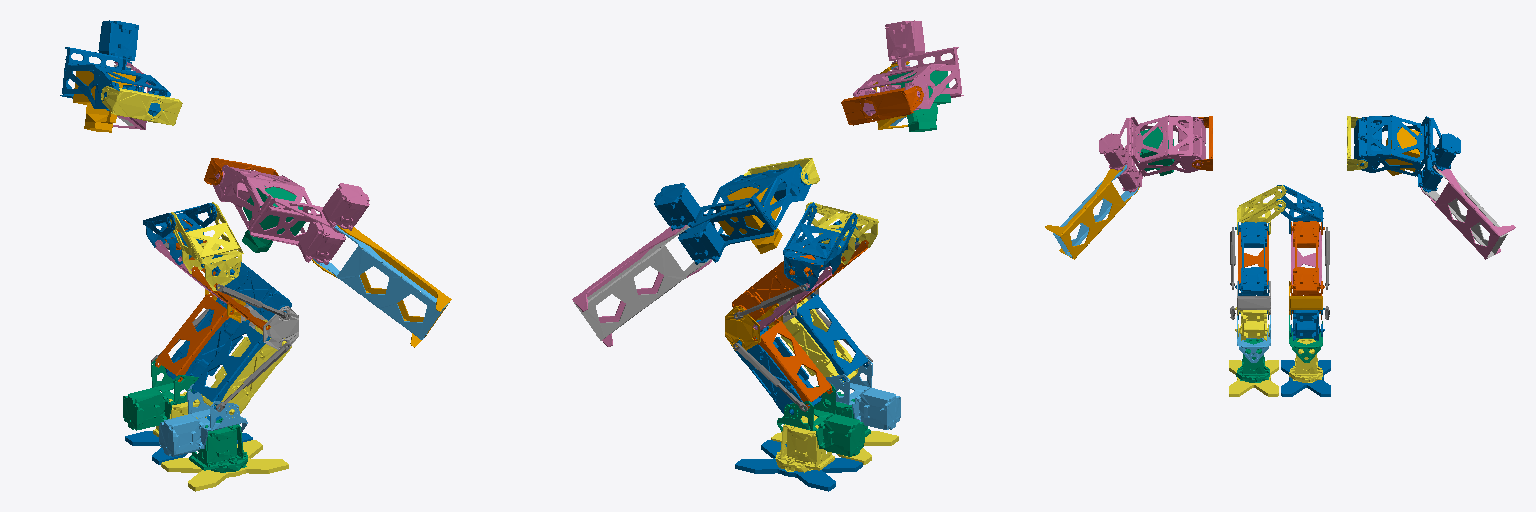
--- Render facts (derived) ---
3 views of the same robot in one strip: view 1: azimuth 30°, elevation 25°; view 2: azimuth 150°, elevation 25°; view 3: azimuth 270°, elevation 25° (orthographic).
Model ginko_xacro with 51 links and 50 joints (41 revolute, 4 continuous, 4 prismatic, 1 fixed), rooted at root_link, posed all joints at 0.
Visible links, largest first — view 1: arm_r_link1, arm_l_link1, arm_r_link3, leg_r_link0, leg_r_link6, leg_l_link6, leg_l_link5, leg_r_link5, leg_r_link8, arm_l_link0, leg_r_link7, leg_r_link4 (+10 smaller); view 2: arm_l_link1, arm_r_link1, arm_l_link3, leg_l_link0, leg_l_link6, leg_r_link6, leg_l_link5, leg_r_link5, leg_l_link8, arm_r_link0, leg_l_link7, leg_l_link4 (+10 smaller); view 3: arm_l_link1, arm_r_link1, arm_r_link2, arm_l_link2, leg_l_link1, leg_r_link1, leg_r_link0, leg_l_link0, leg_l_link8, leg_r_link8, arm_l_link3, arm_r_link3 (+10 smaller).
Boxes of the visible links, <box> form: arm_r_link1: <box>212,165,369,264</box>; arm_l_link1: <box>60,20,170,119</box>; arm_r_link3: <box>313,225,448,339</box>; leg_r_link0: <box>170,202,243,290</box>; leg_r_link6: <box>159,384,247,456</box>; leg_l_link6: <box>123,358,198,430</box>; leg_l_link5: <box>155,293,233,381</box>; leg_r_link5: <box>192,320,270,408</box>; leg_r_link8: <box>161,440,288,491</box>; arm_l_link0: <box>101,86,182,125</box>; leg_r_link7: <box>189,418,247,472</box>; leg_r_link4: <box>201,320,291,417</box>; arm_l_link1: <box>654,164,811,264</box>; arm_r_link1: <box>853,20,963,115</box>; arm_l_link3: <box>574,225,710,340</box>; leg_l_link0: <box>783,202,857,290</box>; leg_l_link6: <box>777,384,864,456</box>; leg_r_link6: <box>826,357,900,429</box>; leg_l_link5: <box>753,319,832,408</box>; leg_r_link5: <box>790,293,868,381</box>; leg_l_link8: <box>735,440,862,491</box>; arm_r_link0: <box>841,86,923,125</box>; leg_l_link7: <box>775,418,834,472</box>; leg_l_link4: <box>731,320,822,414</box>; arm_l_link1: <box>1354,115,1460,192</box>; arm_r_link1: <box>1099,115,1205,192</box>; arm_r_link2: <box>1045,166,1139,259</box>; arm_l_link2: <box>1421,166,1515,259</box>; leg_l_link1: <box>1291,221,1324,294</box>; leg_r_link1: <box>1235,222,1268,294</box>; leg_r_link0: <box>1237,185,1286,234</box>; leg_l_link0: <box>1276,185,1323,233</box>; leg_l_link8: <box>1281,360,1330,396</box>; leg_r_link8: <box>1229,360,1278,396</box>; arm_l_link3: <box>1422,165,1507,257</box>; arm_r_link3: <box>1053,165,1138,257</box>.
Size in the robot's own frame: 0.2079 by 0.7542 by 0.448 metres.
36 mesh visuals loaded from 27 distinct referenced files (2 binary STL, 23 OBJ); not drawn: 2 (reference not matched to a file when rendering).

The robot description file, URDF, robot "ginko_xacro":
<?xml version="1.0" ?>
<!-- =================================================================================== -->
<!-- |    This document was autogenerated by xacro from ./ginko.xacro                  | -->
<!-- |    EDITING THIS FILE BY HAND IS NOT RECOMMENDED                                 | -->
<!-- =================================================================================== -->
<robot name="ginko_xacro" xmlns:xacro="http://www.ros.org/wiki/xacro">
  <link name="root_link"/>
  <joint name="root_joint" type="fixed">
    <parent link="root_link"/>
    <child link="body_link0"/>
    <origin rpy="0 0 0" xyz="0 0 0"/>
  </joint>
  <!-- chest -->
  <link name="body_link0">
    <collision>
      <origin rpy="0 0 0" xyz="0 0 0"/>
      <geometry>
        <mesh filename="package://ginko_description/meshes/stl/link00_chest.stl"/>
      </geometry>
    </collision>
    <visual>
      <origin rpy="0 0 0" xyz="0 0 0"/>
      <geometry>
        <mesh filename="package://ginko_description/meshes/obj/link00_chest.obj"/>
      </geometry>
    </visual>
    <inertial>
      <mass value="1.41502697"/>
      <origin rpy="0 0 0" xyz="0.00008301 0.00000908 0.03819562"/>
      <inertia ixx="0.00248548" ixy="-0.00000074" ixz="0.000003761" iyy="0.00121388" iyz="-0.00000042" izz="0.00287756"/>
    </inertial>
  </link>
  <!-- Joint1 -->
  <joint name="body_joint1" type="revolute">
    <parent link="body_link0"/>
    <child link="body_link1"/>
    <origin rpy="0 0 0" xyz="0.0 0 0"/>
    <axis xyz="0 0 1"/>
    <limit effort="1000.0" lower="-2.6" upper="2.6" velocity="10.0"/>
    <dynamics damping="0.1" friction="0.1"/>
  </joint>
  <!-- waist -->
  <link name="body_link1">
    <collision>
      <origin rpy="0 0 0" xyz="0 0 0"/>
      <geometry>
        <mesh filename="package://ginko_description/meshes/stl/link01_waist.stl"/>
      </geometry>
    </collision>
    <visual>
      <origin rpy="0 0 0" xyz="0 0 0"/>
      <geometry>
        <mesh filename="package://ginko_description/meshes/obj/link01_waist.obj"/>
      </geometry>
    </visual>
    <inertial>
      <mass value="0.33312665"/>
      <origin rpy="0 0 0" xyz="-0.01135452 -0.00000134 -0.02720222"/>
      <inertia ixx="0.00015328" ixy="0.00000003" ixz="0.00001078" iyy="0.00073745" iyz="0.00000000" izz="0.00073107"/>
    </inertial>
  </link>
  <gazebo reference="body_link0">
    <kp>1000000.0</kp>
    <kd>100.0</kd>
    <mu1>0.1</mu1>
    <maxVel>10.0</maxVel>
    <minDepth>0.0001</minDepth>
    <maxContacts>6</maxContacts>
    <selfCollide>false</selfCollide>
    <dampingFactor>0.00</dampingFactor>
  </gazebo>
  <transmission name="body_joint1_trans">
    <type>transmission_interface/SimpleTransmission</type>
    <joint name="body_joint1">
      <hardwareInterface>PositionDutyPidMotorInterface</hardwareInterface>
    </joint>
    <actuator name="body_joint1_motor">
      <hardwareInterface>PositionDutyPidMotorInterface</hardwareInterface>
      <mechanicalReduction>1</mechanicalReduction>
    </actuator>
  </transmission>
  <gazebo reference="body_link1">
    <kp>1000000.0</kp>
    <kd>100.0</kd>
    <mu1>0.1</mu1>
    <maxVel>10.0</maxVel>
    <minDepth>0.0001</minDepth>
    <maxContacts>6</maxContacts>
    <selfCollide>false</selfCollide>
    <dampingFactor>0.00</dampingFactor>
  </gazebo>
  <!-- Link conencts from body. Femoral first. -->
  <joint name="leg_r_joint0" type="revolute">
    <parent link="body_link1"/>
    <child link="leg_r_link0"/>
    <origin rpy="0 0 0" xyz="0.0205 0.0 -0.0409"/>
    <axis xyz="1 0 0"/>
    <limit effort="1000.0" lower="-1.0" upper="0.8" velocity="10.0"/>
    <dynamics damping="0.0" friction="0.3"/>
  </joint>
  <link name="leg_r_link0">
    <collision>
      <origin rpy="0 0 0" xyz="0 0 0"/>
      <geometry>
        <mesh filename="package://ginko_description/meshes/stl/link02_r_femoral.stl"/>
      </geometry>
    </collision>
    <visual>
      <origin rpy="0 0 0" xyz="0 0 0"/>
      <geometry>
        <mesh filename="package://ginko_description/meshes/obj/link02_r_femoral.obj"/>
      </geometry>
    </visual>
    <inertial>
      <mass value="0.03431457"/>
      <origin rpy="0 0 0" xyz="-0.02905818 -0.03723481 -0.02604954"/>
      <inertia ixx="0.00002441" ixy="0.00000001" ixz="0.00000021" iyy="0.00002285" iyz="0.00000391" izz="0.00002980"/>
    </inertial>
  </link>
  <!-- parallel link (upper-1st) -->
  <joint name="leg_r_joint1" type="revolute">
    <parent link="leg_r_link0"/>
    <child link="leg_r_link1"/>
    <origin rpy="0 0.7854 0" xyz="-0.0176 -0.0175 -0.0481"/>
    <axis xyz="0 1 0"/>
    <limit effort="1000.0" lower="-0.7854" upper="1.3" velocity="10.0"/>
    <dynamics damping="0.0" friction="0.3"/>
  </joint>
  <link name="leg_r_link1">
    <collision>
      <origin rpy="0 0 0" xyz="0 0 0"/>
      <geometry>
        <mesh filename="package://ginko_description/meshes/stl/link03_r_leg01.stl"/>
      </geometry>
    </collision>
    <visual>
      <origin rpy="0 0 0" xyz="0 0 0"/>
      <geometry>
        <mesh filename="package://ginko_description/meshes/obj/link03_r_leg01.obj"/>
      </geometry>
    </visual>
    <inertial>
      <mass value="0.15115113"/>
      <origin rpy="0 0 0" xyz="0.05000000 -0.02587267 0.00000000"/>
      <inertia ixx="0.00003721" ixy="0.00000000" ixz="0.00000000" iyy="0.00026035" iyz="0.00000000" izz="0.00028077"/>
    </inertial>
  </link>
  <joint name="leg_r_joint3" type="revolute">
    <parent link="leg_r_link1"/>
    <child link="leg_r_link3"/>
    <origin rpy="0 -0.7854 0" xyz="0.1 0.0 0.0"/>
    <axis xyz="0 -1 0"/>
    <limit effort="1000.0" lower="-0.7854" upper="1.3" velocity="10.0"/>
    <dynamics damping="0.0" friction="0.3"/>
  </joint>
  <!-- parallel link (upper-2nd) -->
  <joint name="leg_r_joint2" type="revolute">
    <parent link="leg_r_link0"/>
    <child link="leg_r_link2"/>
    <origin rpy="0 0.7854 0" xyz="-0.0389 -0.0175 -0.06015"/>
    <axis xyz="0 1 0"/>
    <limit effort="1000.0" lower="-0.7854" upper="1.3" velocity="10.0"/>
    <dynamics damping="0.0" friction="0.0"/>
  </joint>
  <link name="leg_r_link2">
    <collision>
      <origin rpy="0 0 0" xyz="0 0 0"/>
      <geometry>
        <mesh filename="package://ginko_description/meshes/stl/link04_r_leg02.stl"/>
      </geometry>
    </collision>
    <visual>
      <origin rpy="0 0 0" xyz="0 0 0"/>
      <geometry>
        <mesh filename="package://ginko_description/meshes/obj/link04_r_leg02.obj"/>
      </geometry>
    </visual>
    <inertial>
      <mass value="0.01646643"/>
      <origin rpy="0 0 0" xyz="0.05000000 -0.02495100 -0.00491150"/>
      <inertia ixx="0.00000640" ixy="0.00000000" ixz="0.00000000" iyy="0.00001642" iyz="0.00000000" izz="0.00002264"/>
    </inertial>
  </link>
  <joint name="close_leg_r_joint0" type="revolute">
    <parent link="leg_r_link2"/>
    <child link="dummy0_leg_r_link3"/>
    <origin rpy="0 -0.7854 0" xyz="0.1 0.0 0.0"/>
    <axis xyz="0 -1 0"/>
    <limit effort="1000.0" lower="-0.7854" upper="1.3" velocity="10.0"/>
    <dynamics damping="0.0" friction="0.0"/>
  </joint>
  <link name="dummy0_leg_r_link3">
    <inertial>
      <mass value="0.00001"/>
      <origin rpy="0 0 0" xyz="-0.021 0 -0.012"/>
      <inertia ixx="0.00000001" ixy="0.00000000" ixz="0.00000000" iyy="0.00000001" iyz="0.00000000" izz="0.00000001"/>
    </inertial>
  </link>
  <!-- knee -->
  <link name="leg_r_link3">
    <collision>
      <origin rpy="0 0 0" xyz="0 0 0"/>
      <geometry>
        <mesh filename="package://ginko_description/meshes/stl/link05_r_knee.stl"/>
      </geometry>
    </collision>
    <visual>
      <origin rpy="0 0 0" xyz="0 0 0"/>
      <geometry>
        <mesh filename="package://ginko_description/meshes/obj/link05_r_knee.obj"/>
      </geometry>
    </visual>
    <inertial>
      <mass value="0.01781176"/>
      <origin rpy="0 0 0" xyz="0.00393357 -0.02364163 -0.01930000"/>
      <inertia ixx="0.00001301" ixy="-0.00000008" ixz="0.00000000" iyy="0.00000700" iyz="0.00000000" izz="0.00001388"/>
    </inertial>
  </link>
  <joint name="leg_r_spring0_joint0" type="revolute">
    <parent link="leg_r_link0"/>
    <child link="leg_r_spring0_link0"/>
    <origin rpy="0 0.56756754 0" xyz="-0.0389 -0.0755 -0.06015"/>
    <axis xyz="0 -1 0"/>
    <dynamics damping="0.0" friction="0.0"/>
    <limit effort="0.0" lower="-3.141593" upper="3.141593" velocity="10.0"/>
  </joint>
  <link name="leg_r_spring0_link0">
    <collision>
      <origin rpy="0 0 0" xyz="0 0 0"/>
      <geometry>
        <mesh filename="package://ginko_description/meshes/stl/spring1.stl"/>
      </geometry>
    </collision>
    <visual>
      <origin rpy="0 0 0" xyz="0 0 0"/>
      <geometry>
        <mesh filename="package://ginko_description/meshes/stl/spring1.stl"/>
      </geometry>
      <material name="spring">
        <color rgba="0.5 0.5 0.5 1.0"/>
      </material>
    </visual>
    <inertial>
      <mass value="0.0143865"/>
      <origin rpy="0 0 0" xyz="0.03091683 0.0 0.0"/>
      <inertia ixx="0.0000001" ixy="0.00000000" ixz="0.00000000" iyy="0.0000060" iyz="0.00000000" izz="0.0000060"/>
    </inertial>
  </link>
  <joint name="spring0_leg_r_joint" type="prismatic">
    <parent link="leg_r_spring0_link0"/>
    <child link="leg_r_spring0_link1"/>
    <origin rpy="0 3.141593 0" xyz="0.10911938 0.0 0.0"/>
    <axis xyz="1 0 0"/>
    <limit effort="1000.0" lower="-0.03" upper="0.06" velocity="10.0"/>
    <dynamics damping="0.0" friction="0.0"/>
  </joint>
  <link name="leg_r_spring0_link1">
    <collision>
      <origin rpy="0 0 0" xyz="0 0 0"/>
      <geometry>
        <mesh filename="package://ginko_description/meshes/stl/spring2.stl"/>
      </geometry>
    </collision>
    <visual>
      <origin rpy="0 0 0" xyz="0 0 0"/>
      <geometry>
        <mesh filename="package://ginko_description/meshes/stl/spring2.stl"/>
      </geometry>
      <material name="spring">
        <color rgba="0.5 0.5 0.5 1.0"/>
      </material>
    </visual>
    <inertial>
      <mass value="0.0143865"/>
      <origin rpy="0 0 0" xyz="0.03091683 0.0 0.0"/>
      <inertia ixx="0.0000001" ixy="0.00000000" ixz="0.00000000" iyy="0.0000060" iyz="0.00000000" izz="0.0000060"/>
    </inertial>
  </link>
  <joint name="close_leg_r_spring0_joint1" type="revolute">
    <parent link="leg_r_spring0_link1"/>
    <child link="dummy1_leg_r_link3"/>
    <origin rpy="0 0 0" xyz="0 0 0"/>
    <axis xyz="0 -1 0"/>
    <limit effort="0.0" lower="-3.141593" upper="3.141593" velocity="10.0"/>
    <dynamics damping="0.0" friction="0.0"/>
  </joint>
  <link name="dummy1_leg_r_link3">
    <inertial>
      <mass value="0.00001"/>
      <origin rpy="0 0 0" xyz="0 -0.058 0"/>
      <inertia ixx="0.00000001" ixy="0.00000000" ixz="0.00000000" iyy="0.00000001" iyz="0.00000000" izz="0.00000001"/>
    </inertial>
  </link>
  <!-- parallel link (lower-1st) -->
  <joint name="leg_r_joint4" type="revolute">
    <parent link="leg_r_link3"/>
    <child link="leg_r_link4"/>
    <origin rpy="0 2.3562 0" xyz="0 0 -0.0386"/>
    <axis xyz="0 1 0"/>
    <limit effort="1000.0" lower="-1.3" upper="0.7854" velocity="10.0"/>
    <dynamics damping="0.0" friction="0.3"/>
  </joint>
  <link name="leg_r_link4">
    <collision>
      <origin rpy="0 0 0" xyz="0 0 0"/>
      <geometry>
        <mesh filename="package://ginko_description/meshes/stl/link03_r_leg01.stl"/>
      </geometry>
    </collision>
    <visual>
      <origin rpy="0 0 0" xyz="0 0 0"/>
      <geometry>
        <mesh filename="package://ginko_description/meshes/obj/link03_r_leg01.obj"/>
      </geometry>
    </visual>
    <inertial>
      <mass value="0.15115113"/>
      <origin rpy="0 0 0" xyz="0.05000000 -0.02587267 0.00000000"/>
      <inertia ixx="0.00003721" ixy="0.00000000" ixz="0.00000000" iyy="0.00026035" iyz="0.00000000" izz="0.00028077"/>
    </inertial>
  </link>
  <joint name="leg_r_joint6" type="revolute">
    <parent link="leg_r_link4"/>
    <child link="leg_r_link6"/>
    <origin rpy="0 -2.3562 0" xyz="0.1 0.0 0.0"/>
    <axis xyz="0 -1 0"/>
    <limit effort="1000.0" lower="-1.3" upper="0.7854" velocity="10.0"/>
    <dynamics damping="0.0" friction="0.3"/>
  </joint>
  <!-- parallel link (lower-2nd) -->
  <joint name="leg_r_joint5" type="revolute">
    <parent link="leg_r_link3"/>
    <child link="leg_r_link5"/>
    <origin rpy="0 2.3562 0" xyz="-0.0213 0 -0.02655"/>
    <axis xyz="0 1 0"/>
    <limit effort="0.0" lower="-1.3" upper="0.7854" velocity="10.0"/>
    <dynamics damping="0.0" friction="0.0"/>
  </joint>
  <link name="leg_r_link5">
    <collision>
      <origin rpy="0 0 0" xyz="0 0 0"/>
      <geometry>
        <mesh filename="package://ginko_description/meshes/stl/link04_r_leg02.stl"/>
      </geometry>
    </collision>
    <visual>
      <origin rpy="0 0 0" xyz="0 0 0"/>
      <geometry>
        <mesh filename="package://ginko_description/meshes/obj/link04_r_leg02.obj"/>
      </geometry>
    </visual>
    <inertial>
      <mass value="0.01646643"/>
      <origin rpy="0 0 0" xyz="0.05000000 -0.02495100 -0.00491150"/>
      <inertia ixx="0.00000640" ixy="0.00000000" ixz="0.00000000" iyy="0.00001642" iyz="0.00000000" izz="0.00002264"/>
    </inertial>
  </link>
  <joint name="close_leg_r_joint1" type="revolute">
    <parent link="leg_r_link5"/>
    <child link="dummy2_leg_r_link6"/>
    <origin rpy="0 -2.3562 0" xyz="0.1 0.0 0.0"/>
    <axis xyz="0 -1 0"/>
    <limit effort="0.0" lower="-1.3" upper="0.7854" velocity="10.0"/>
    <dynamics damping="0.0" friction="0.0"/>
  </joint>
  <link name="dummy2_leg_r_link6">
    <inertial>
      <mass value="0.00001"/>
      <origin rpy="0 0 0" xyz="-0.021 0 0.012"/>
      <inertia ixx="0.00000001" ixy="0.00000000" ixz="0.00000000" iyy="0.00000001" iyz="0.00000000" izz="0.00000001"/>
    </inertial>
  </link>
  <joint name="leg_r_spring1_joint0" type="continuous">
    <parent link="leg_r_link4"/>
    <child link="leg_r_spring1_link0"/>
    <origin rpy="0 0.217830624 0" xyz="0 -0.058 0"/>
    <axis xyz="0 -1 0"/>
    <limit effort="0.0" lower="-3.141593" upper="3.141593" velocity="10.0"/>
    <dynamics damping="0.01" friction="0.0"/>
  </joint>
  <link name="leg_r_spring1_link0">
    <collision>
      <origin rpy="0 0 0" xyz="0 0 0"/>
      <geometry>
        <mesh filename="package://ginko_description/meshes/stl/spring1.stl"/>
      </geometry>
    </collision>
    <visual>
      <origin rpy="0 0 0" xyz="0 0 0"/>
      <geometry>
        <mesh filename="package://ginko_description/meshes/stl/spring1.stl"/>
      </geometry>
      <material name="spring">
        <color rgba="0.5 0.5 0.5 1.0"/>
      </material>
    </visual>
    <inertial>
      <mass value="0.0143865"/>
      <origin rpy="0 0 0" xyz="0.03091683 0.0 0.0"/>
      <inertia ixx="0.0000001" ixy="0.00000000" ixz="0.00000000" iyy="0.0000060" iyz="0.00000000" izz="0.0000060"/>
    </inertial>
  </link>
  <joint name="spring1_leg_r_joint" type="prismatic">
    <parent link="leg_r_spring1_link0"/>
    <child link="leg_r_spring1_link1"/>
    <origin rpy="0 3.141593 0" xyz="0.10911938 0.0 0.0"/>
    <axis xyz="1 0 0"/>
    <limit effort="1000.0" lower="-0.03" upper="0.06" velocity="10.0"/>
    <dynamics damping="0.01" friction="0.0"/>
  </joint>
  <link name="leg_r_spring1_link1">
    <collision>
      <origin rpy="0 0 0" xyz="0 0 0"/>
      <geometry>
        <mesh filename="package://ginko_description/meshes/stl/spring2.stl"/>
      </geometry>
    </collision>
    <visual>
      <origin rpy="0 0 0" xyz="0 0 0"/>
      <geometry>
        <mesh filename="package://ginko_description/meshes/stl/spring2.stl"/>
      </geometry>
      <material name="spring">
        <color rgba="0.5 0.5 0.5 1.0"/>
      </material>
    </visual>
    <inertial>
      <mass value="0.0143865"/>
      <origin rpy="0 0 0" xyz="0.03091683 0.0 0.0"/>
      <inertia ixx="0.0000001" ixy="0.00000000" ixz="0.00000000" iyy="0.0000060" iyz="0.00000000" izz="0.0000060"/>
    </inertial>
  </link>
  <joint name="close_leg_r_spring1_joint1" type="continuous">
    <parent link="leg_r_spring1_link1"/>
    <child link="dummy3_leg_r_link6"/>
    <origin rpy="0 -2.574025114 0" xyz="0 0 0"/>
    <axis xyz="0 -1 0"/>
    <limit effort="0.0" lower="-3.141593" upper="3.141593" velocity="10.0"/>
    <dynamics damping="0.01" friction="0.0"/>
  </joint>
  <link name="dummy3_leg_r_link6">
    <inertial>
      <mass value="0.00001"/>
      <origin rpy="0 0 0" xyz="-0.021 -0.058 0.012"/>
      <inertia ixx="0.00000001" ixy="0.00000000" ixz="0.00000000" iyy="0.00000001" iyz="0.00000000" izz="0.00000001"/>
    </inertial>
  </link>
  <!-- toe -->
  <link name="leg_r_link6">
    <collision>
      <origin rpy="0 0 0" xyz="0 0 0"/>
      <geometry>
        <mesh filename="package://ginko_description/meshes/stl/link06_r_toe01.stl"/>
      </geometry>
    </collision>
    <visual>
      <origin rpy="0 0 0" xyz="0 0 0"/>
      <geometry>
        <mesh filename="package://ginko_description/meshes/obj/link06_r_toe01.obj"/>
      </geometry>
    </visual>
    <inertial>
      <mass value="0.08799204"/>
      <origin rpy="0 0 0" xyz="-0.04166125 -0.02463880 -0.02586249"/>
      <inertia ixx="0.00002815" ixy="0.00000041" ixz="0.00000980" iyy="0.00006846" iyz="0.00000026" izz="0.00006529"/>
    </inertial>
  </link>
  <joint name="leg_r_joint7" type="revolute">
    <parent link="leg_r_link6"/>
    <child link="leg_r_link7"/>
    <origin rpy="0 0 0" xyz="-0.028 -0.02475 -0.0391"/>
    <axis xyz="-1 0 0"/>
    <limit effort="1000.0" lower="-1.6" upper="1.6" velocity="10.0"/>
    <dynamics damping="0.0" friction="0.3"/>
  </joint>
  <link name="leg_r_link7">
    <collision>
      <origin rpy="0 0 0" xyz="0 0 0"/>
      <geometry>
        <mesh filename="package://ginko_description/meshes/stl/link07_r_toe02.stl"/>
      </geometry>
    </collision>
    <visual>
      <origin rpy="0 0 0" xyz="0 0 0"/>
      <geometry>
        <mesh filename="package://ginko_description/meshes/obj/link07_r_toe02.obj"/>
      </geometry>
    </visual>
    <inertial>
      <mass value="0.10920041"/>
      <origin rpy="0 0 0" xyz="0.02658756 -0.00000053 -0.01782468"/>
      <inertia ixx="0.00003853" ixy="0.00000000" ixz="-0.00000479" iyy="0.00005192" iyz="0.00000000" izz="0.00003521"/>
    </inertial>
  </link>
  <joint name="leg_r_joint8" type="revolute">
    <parent link="leg_r_link7"/>
    <child link="leg_r_link8"/>
    <origin rpy="0 0 0" xyz="0.0342 0 -0.04"/>
    <axis xyz="0 0 1"/>
    <limit effort="1000.0" lower="-2.6" upper="2.6" velocity="10.0"/>
    <dynamics damping="0.0" friction="0.3"/>
  </joint>
  <link name="leg_r_link8">
    <collision>
      <origin rpy="0 0 0" xyz="0 0 -0.003"/>
      <geometry>
        <box size="0.128 0.08 0.006"/>
      </geometry>
    </collision>
    <visual>
      <origin rpy="0 0 0" xyz="0 0 0"/>
      <geometry>
        <mesh filename="package://ginko_description/meshes/obj/link08_r_toe03.obj"/>
      </geometry>
    </visual>
    <inertial>
      <mass value="0.05363111"/>
      <origin rpy="0 0 0" xyz="0.00000000 0.00000000 -0.00269342"/>
      <inertia ixx="0.00002877" ixy="0.00000000" ixz="0.00000000" iyy="0.00007083" iyz="-0.00000000" izz="0.00009934"/>
    </inertial>
  </link>
  <gazebo reference="leg_r_link0">
    <kp>1000000.0</kp>
    <kd>100.0</kd>
    <mu1>0.2</mu1>
    <maxVel>10.0</maxVel>
    <minDepth>0.0001</minDepth>
    <maxContacts>6</maxContacts>
    <selfCollide>false</selfCollide>
    <dampingFactor>0.00</dampingFactor>
  </gazebo>
  <gazebo reference="leg_r_link1">
    <kp>1000000.0</kp>
    <kd>100.0</kd>
    <mu1>0.2</mu1>
    <maxVel>10.0</maxVel>
    <minDepth>0.0001</minDepth>
    <maxContacts>6</maxContacts>
    <selfCollide>false</selfCollide>
    <dampingFactor>0.00</dampingFactor>
  </gazebo>
  <gazebo reference="leg_r_link3">
    <kp>1000000.0</kp>
    <kd>100.0</kd>
    <mu1>0.2</mu1>
    <maxVel>10.0</maxVel>
    <minDepth>0.0001</minDepth>
    <maxContacts>6</maxContacts>
    <selfCollide>false</selfCollide>
    <dampingFactor>0.00</dampingFactor>
  </gazebo>
  <gazebo reference="leg_r_link4">
    <kp>1000000.0</kp>
    <kd>100.0</kd>
    <mu1>0.2</mu1>
    <maxVel>10.0</maxVel>
    <minDepth>0.0001</minDepth>
    <maxContacts>6</maxContacts>
    <selfCollide>false</selfCollide>
    <dampingFactor>0.00</dampingFactor>
  </gazebo>
  <gazebo reference="leg_r_link6">
    <kp>1000000.0</kp>
    <kd>100.0</kd>
    <mu1>0.2</mu1>
    <maxVel>10.0</maxVel>
    <minDepth>0.0001</minDepth>
    <maxContacts>6</maxContacts>
    <selfCollide>false</selfCollide>
    <dampingFactor>0.00</dampingFactor>
  </gazebo>
  <gazebo reference="leg_r_link7">
    <kp>1000000.0</kp>
    <kd>100.0</kd>
    <mu1>0.2</mu1>
    <maxVel>10.0</maxVel>
    <minDepth>0.0001</minDepth>
    <maxContacts>6</maxContacts>
    <selfCollide>false</selfCollide>
    <dampingFactor>0.00</dampingFactor>
  </gazebo>
  <!-- <xacro:default_link_collision link_name="leg_r_link8" friction="1.0"/> -->
  <gazebo reference="leg_r_link8">
    <kp>2000000.0</kp>
    <kd>200.0</kd>
    <mu1>10.0</mu1>
    <maxVel>1.0</maxVel>
    <minDepth>0.0001</minDepth>
    <maxContacts>20</maxContacts>
    <selfCollide>true</selfCollide>
    <dampingFactor>0.0</dampingFactor>
  </gazebo>
  <transmission name="leg_r_joint0_trans">
    <type>transmission_interface/SimpleTransmission</type>
    <joint name="leg_r_joint0">
      <hardwareInterface>PositionDutyPidMotorInterface</hardwareInterface>
    </joint>
    <actuator name="leg_r_joint0_motor">
      <hardwareInterface>PositionDutyPidMotorInterface</hardwareInterface>
      <mechanicalReduction>1</mechanicalReduction>
    </actuator>
  </transmission>
  <transmission name="leg_r_joint1_trans">
    <type>transmission_interface/SimpleTransmission</type>
    <joint name="leg_r_joint1">
      <hardwareInterface>PositionDutyPidMotorInterface</hardwareInterface>
    </joint>
    <actuator name="leg_r_joint1_motor">
      <hardwareInterface>PositionDutyPidMotorInterface</hardwareInterface>
      <mechanicalReduction>1</mechanicalReduction>
    </actuator>
  </transmission>
  <transmission name="leg_r_joint3_trans">
    <type>transmission_interface/SimpleTransmission</type>
    <joint name="leg_r_joint3">
      <hardwareInterface>PositionDutyPidMotorInterface</hardwareInterface>
    </joint>
    <actuator name="leg_r_joint3_motor">
      <hardwareInterface>PositionDutyPidMotorInterface</hardwareInterface>
      <mechanicalReduction>1</mechanicalReduction>
    </actuator>
  </transmission>
  <transmission name="leg_r_joint4_trans">
    <type>transmission_interface/SimpleTransmission</type>
    <joint name="leg_r_joint4">
      <hardwareInterface>PositionDutyPidMotorInterface</hardwareInterface>
    </joint>
    <actuator name="leg_r_joint4_motor">
      <hardwareInterface>PositionDutyPidMotorInterface</hardwareInterface>
      <mechanicalReduction>1</mechanicalReduction>
    </actuator>
  </transmission>
  <transmission name="leg_r_joint6_trans">
    <type>transmission_interface/SimpleTransmission</type>
    <joint name="leg_r_joint6">
      <hardwareInterface>PositionDutyPidMotorInterface</hardwareInterface>
    </joint>
    <actuator name="leg_r_joint6_motor">
      <hardwareInterface>PositionDutyPidMotorInterface</hardwareInterface>
      <mechanicalReduction>1</mechanicalReduction>
    </actuator>
  </transmission>
  <transmission name="leg_r_joint7_trans">
    <type>transmission_interface/SimpleTransmission</type>
    <joint name="leg_r_joint7">
      <hardwareInterface>PositionDutyPidMotorInterface</hardwareInterface>
    </joint>
    <actuator name="leg_r_joint7_motor">
      <hardwareInterface>PositionDutyPidMotorInterface</hardwareInterface>
      <mechanicalReduction>1</mechanicalReduction>
    </actuator>
  </transmission>
  <transmission name="leg_r_joint8_trans">
    <type>transmission_interface/SimpleTransmission</type>
    <joint name="leg_r_joint8">
      <hardwareInterface>PositionDutyPidMotorInterface</hardwareInterface>
    </joint>
    <actuator name="leg_r_joint8_motor">
      <hardwareInterface>PositionDutyPidMotorInterface</hardwareInterface>
      <mechanicalReduction>1</mechanicalReduction>
    </actuator>
  </transmission>
  <!-- Link conencts from body. Femoral first. -->
  <joint name="leg_l_joint0" type="revolute">
    <parent link="body_link1"/>
    <child link="leg_l_link0"/>
    <origin rpy="0 0 0" xyz="-0.0404 0.0 -0.0409"/>
    <axis xyz="-1 0 0"/>
    <limit effort="1000.0" lower="-0.8" upper="1.0" velocity="10.0"/>
    <dynamics damping="0.0" friction="0.3"/>
  </joint>
  <link name="leg_l_link0">
    <collision>
      <origin rpy="0 0 0" xyz="0 0 0"/>
      <geometry>
        <mesh filename="package://ginko_description/meshes/stl/link02_l_femoral.stl"/>
      </geometry>
    </collision>
    <visual>
      <origin rpy="0 0 0" xyz="0 0 0"/>
      <geometry>
        <mesh filename="package://ginko_description/meshes/obj/link02_l_femoral.obj"/>
      </geometry>
    </visual>
    <inertial>
      <mass value="0.03433352"/>
      <origin rpy="0 0 0" xyz="0.02930795 0.03723759 -0.02605386"/>
      <inertia ixx="0.00002443" ixy="-0.00000021" ixz="-0.00000021" iyy="0.00002287" iyz="-0.00000391" izz="0.00002983"/>
    </inertial>
  </link>
  <!-- parallel link (upper-1st) -->
  <joint name="leg_l_joint1" type="revolute">
    <parent link="leg_l_link0"/>
    <child link="leg_l_link1"/>
    <origin rpy="0 0.7854 0" xyz="0.0433 0.0175 -0.0481"/>
    <axis xyz="0 -1 0"/>
    <limit effort="1000.0" lower="-1.3" upper="0.7854" velocity="10.0"/>
    <dynamics damping="0.0" friction="0.3"/>
  </joint>
  <link name="leg_l_link1">
    <collision>
      <origin rpy="0 0 0" xyz="0 0 0"/>
      <geometry>
        <mesh filename="package://ginko_description/meshes/stl/link03_l_leg01.stl"/>
      </geometry>
    </collision>
    <visual>
      <origin rpy="0 0 0" xyz="0 0 0"/>
      <geometry>
        <mesh filename="package://ginko_description/meshes/obj/link03_l_leg01.obj"/>
      </geometry>
    </visual>
    <inertial>
      <mass value="0.15115113"/>
      <origin rpy="0 0 0" xyz="0.05000000 0.02587267 0.00000000"/>
      <inertia ixx="0.00003721" ixy="0.00000000" ixz="0.00000000" iyy="0.00026035" iyz="0.00000000" izz="0.00028077"/>
    </inertial>
  </link>
  <joint name="leg_l_joint3" type="revolute">
    <parent link="leg_l_link1"/>
    <child link="leg_l_link3"/>
    <origin rpy="0 -0.7854 0" xyz="0.1 0.0 0.0"/>
    <axis xyz="0 1 0"/>
    <limit effort="1000.0" lower="-1.3" upper="0.7854" velocity="10.0"/>
    <dynamics damping="0.0" friction="0.3"/>
  </joint>
  <!-- parallel link (upper-2nd) -->
  <joint name="leg_l_joint2" type="revolute">
    <parent link="leg_l_link0"/>
    <child link="leg_l_link2"/>
    <origin rpy="0 0.7854 0" xyz="0.022 0.0175 -0.06015"/>
    <axis xyz="0 -1 0"/>
    <limit effort="1000.0" lower="-1.3" upper="0.7854" velocity="10.0"/>
    <dynamics damping="0.0" friction="0.3"/>
  </joint>
  <link name="leg_l_link2">
    <collision>
      <origin rpy="0 0 0" xyz="0 0 0"/>
      <geometry>
        <mesh filename="package://ginko_description/meshes/stl/link04_l_leg02.stl"/>
      </geometry>
    </collision>
    <visual>
      <origin rpy="0 0 0" xyz="0 0 0"/>
      <geometry>
        <mesh filename="package://ginko_description/meshes/obj/link04_l_leg02.obj"/>
      </geometry>
    </visual>
    <inertial>
      <mass value="0.01646643"/>
      <origin rpy="0 0 0" xyz="0.05000000 0.02495100 -0.00491150"/>
      <inertia ixx="0.00000640" ixy="0.00000000" ixz="0.00000000" iyy="0.00001642" iyz="0.00000000" izz="0.00002264"/>
    </inertial>
  </link>
  <joint name="close_leg_l_joint0" type="revolute">
    <parent link="leg_l_link2"/>
    <child link="dummy0_leg_l_link3"/>
    <origin rpy="0 -0.7854 0" xyz="0.1 0.0 0.0"/>
    <axis xyz="0 1 0"/>
    <limit effort="1000.0" lower="-1.3" upper="0.7854" velocity="10.0"/>
    <dynamics damping="0.0" friction="0.0"/>
  </joint>
  <link name="dummy0_leg_l_link3">
    <inertial>
      <mass value="0.00001"/>
      <origin rpy="0 0 0" xyz="-0.021 0 -0.012"/>
      <inertia ixx="0.00000001" ixy="0.00000000" ixz="0.00000000" iyy="0.00000001" iyz="0.00000000" izz="0.00000001"/>
    </inertial>
  </link>
  <!-- knee -->
  <link name="leg_l_link3">
    <collision>
      <origin rpy="0 0 0" xyz="0 0 0"/>
      <geometry>
        <mesh filename="package://ginko_description/meshes/stl/link05_l_knee.stl"/>
      </geometry>
    </collision>
    <visual>
      <origin rpy="0 0 0" xyz="0 0 0"/>
      <geometry>
        <mesh filename="package://ginko_description/meshes/obj/link05_l_knee.obj"/>
      </geometry>
    </visual>
    <inertial>
      <mass value="0.01781176"/>
      <origin rpy="0 0 0" xyz="0.00393357 0.02364163 -0.01930000"/>
      <inertia ixx="0.00001301" ixy="0.00000008" ixz="0.00000000" iyy="0.00000700" iyz="0.00000000" izz="0.00001388"/>
    </inertial>
  </link>
  <joint name="leg_l_spring0_joint0" type="revolute">
    <parent link="leg_l_link0"/>
    <child link="leg_l_spring0_link0"/>
    <origin rpy="0 0.56756754 0" xyz="0.022 0.0755 -0.06015"/>
    <axis xyz="0 -1 0"/>
    <dynamics damping="0.0" friction="0.0"/>
    <limit effort="0.0" lower="-3.141593" upper="3.141593" velocity="10.0"/>
  </joint>
  <link name="leg_l_spring0_link0">
    <collision>
      <origin rpy="0 0 0" xyz="0 0 0"/>
      <geometry>
        <mesh filename="package://ginko_description/meshes/stl/spring1.stl"/>
      </geometry>
    </collision>
    <visual>
      <origin rpy="0 0 0" xyz="0 0 0"/>
      <geometry>
        <mesh filename="package://ginko_description/meshes/stl/spring1.stl"/>
      </geometry>
      <material name="spring">
        <color rgba="0.5 0.5 0.5 1.0"/>
      </material>
    </visual>
    <inertial>
      <mass value="0.0143865"/>
      <origin rpy="0 0 0" xyz="0.03091683 0.0 0.0"/>
      <inertia ixx="0.0000001" ixy="0.00000000" ixz="0.00000000" iyy="0.0000060" iyz="0.00000000" izz="0.0000060"/>
    </inertial>
  </link>
  <joint name="spring0_leg_l_joint" type="prismatic">
    <parent link="leg_l_spring0_link0"/>
    <child link="leg_l_spring0_link1"/>
    <origin rpy="0 3.141593 0" xyz="0.10911938 0.0 0.0"/>
    <axis xyz="1 0 0"/>
    <limit effort="1000.0" lower="-0.03" upper="0.06" velocity="10.0"/>
    <dynamics damping="0.0" friction="0.0"/>
  </joint>
  <link name="leg_l_spring0_link1">
    <collision>
      <origin rpy="0 0 0" xyz="0 0 0"/>
      <geometry>
        <mesh filename="package://ginko_description/meshes/stl/spring2.stl"/>
      </geometry>
    </collision>
    <visual>
      <origin rpy="0 0 0" xyz="0 0 0"/>
      <geometry>
        <mesh filename="package://ginko_description/meshes/stl/spring2.stl"/>
      </geometry>
      <material name="spring">
        <color rgba="0.5 0.5 0.5 1.0"/>
      </material>
    </visual>
    <inertial>
      <mass value="0.0143865"/>
      <origin rpy="0 0 0" xyz="0.03091683 0.0 0.0"/>
      <inertia ixx="0.0000001" ixy="0.00000000" ixz="0.00000000" iyy="0.0000060" iyz="0.00000000" izz="0.0000060"/>
    </inertial>
  </link>
  <joint name="close_leg_l_spring0_joint1" type="revolute">
    <parent link="leg_l_spring0_link1"/>
    <child link="dummy1_leg_l_link3"/>
    <origin rpy="0 0 0" xyz="0 0 0"/>
    <axis xyz="0 -1 0"/>
    <limit effort="0.0" lower="-3.141593" upper="3.141593" velocity="10.0"/>
    <dynamics damping="0.0" friction="0.0"/>
  </joint>
  <link name="dummy1_leg_l_link3">
    <inertial>
      <mass value="0.00001"/>
      <origin rpy="0 0 0" xyz="0 0.058 0"/>
      <inertia ixx="0.00000001" ixy="0.00000000" ixz="0.00000000" iyy="0.00000001" iyz="0.00000000" izz="0.00000001"/>
    </inertial>
  </link>
  <!-- parallel link (lower-1st) -->
  <joint name="leg_l_joint4" type="revolute">
    <parent link="leg_l_link3"/>
    <child link="leg_l_link4"/>
    <origin rpy="0 2.3562 0" xyz="0 0 -0.0386"/>
    <axis xyz="0 -1 0"/>
    <limit effort="1000.0" lower="-0.7854" upper="1.3" velocity="10.0"/>
    <dynamics damping="0.0" friction="0.3"/>
  </joint>
  <link name="leg_l_link4">
    <collision>
      <origin rpy="0 0 0" xyz="0 0 0"/>
      <geometry>
        <mesh filename="package://ginko_description/meshes/stl/link03_l_leg01.stl"/>
      </geometry>
    </collision>
    <visual>
      <origin rpy="0 0 0" xyz="0 0 0"/>
      <geometry>
        <mesh filename="package://ginko_description/meshes/obj/link03_l_leg01.obj"/>
      </geometry>
    </visual>
    <inertial>
      <mass value="0.15115113"/>
      <origin rpy="0 0 0" xyz="0.05000000 0.02587267 0.00000000"/>
      <inertia ixx="0.00003721" ixy="0.00000000" ixz="0.00000000" iyy="0.00026035" iyz="0.00000000" izz="0.00028077"/>
    </inertial>
  </link>
  <joint name="leg_l_joint6" type="revolute">
    <parent link="leg_l_link4"/>
    <child link="leg_l_link6"/>
    <origin rpy="0 -2.3562 0" xyz="0.1 0.0 0.0"/>
    <axis xyz="0 1 0"/>
    <limit effort="1000.0" lower="-0.7854" upper="1.3" velocity="10.0"/>
    <dynamics damping="0.0" friction="0.3"/>
  </joint>
  <!-- parallel link (lower-2nd) -->
  <joint name="leg_l_joint5" type="revolute">
    <parent link="leg_l_link3"/>
    <child link="leg_l_link5"/>
    <origin rpy="0 2.3562 0" xyz="-0.0213 0 -0.02655"/>
    <axis xyz="0 -1 0"/>
    <limit effort="0.0" lower="-0.7854" upper="1.3" velocity="10.0"/>
    <dynamics damping="0.0" friction="0.0"/>
  </joint>
  <link name="leg_l_link5">
    <collision>
      <origin rpy="0 0 0" xyz="0 0 0"/>
      <geometry>
        <mesh filename="package://ginko_description/meshes/stl/link04_l_leg02.stl"/>
      </geometry>
    </collision>
    <visual>
      <origin rpy="0 0 0" xyz="0 0 0"/>
      <geometry>
        <mesh filename="package://ginko_description/meshes/obj/link04_l_leg02.obj"/>
      </geometry>
    </visual>
    <inertial>
      <mass value="0.01646643"/>
      <origin rpy="0 0 0" xyz="0.05000000 0.02495100 -0.00491150"/>
      <inertia ixx="0.00000640" ixy="0.00000000" ixz="0.00000000" iyy="0.00001642" iyz="0.00000000" izz="0.00002264"/>
    </inertial>
  </link>
  <joint name="close_leg_l_joint1" type="revolute">
    <parent link="leg_l_link5"/>
    <child link="dummy2_leg_l_link6"/>
    <origin rpy="0 -2.3562 0" xyz="0.1 0.0 0.0"/>
    <axis xyz="0 1 0"/>
    <limit effort="0.0" lower="-1.3" upper="0.7854" velocity="10.0"/>
    <dynamics damping="0.0" friction="0.0"/>
  </joint>
  <link name="dummy2_leg_l_link6">
    <inertial>
      <mass value="0.00001"/>
      <origin rpy="0 0 0" xyz="-0.021 0 0.012"/>
      <inertia ixx="0.00000001" ixy="0.00000000" ixz="0.00000000" iyy="0.00000001" iyz="0.00000000" izz="0.00000001"/>
    </inertial>
  </link>
  <joint name="leg_l_spring1_joint0" type="continuous">
    <parent link="leg_l_link4"/>
    <child link="leg_l_spring1_link0"/>
    <origin rpy="0 0.217830624 0" xyz="0 0.058 0"/>
    <axis xyz="0 -1 0"/>
    <limit effort="0.0" lower="-3.141593" upper="3.141593" velocity="10.0"/>
    <dynamics damping="0.01" friction="0.0"/>
  </joint>
  <link name="leg_l_spring1_link0">
    <collision>
      <origin rpy="0 0 0" xyz="0 0 0"/>
      <geometry>
        <mesh filename="package://ginko_description/meshes/stl/spring1.stl"/>
      </geometry>
    </collision>
    <visual>
      <origin rpy="0 0 0" xyz="0 0 0"/>
      <geometry>
        <mesh filename="package://ginko_description/meshes/stl/spring1.stl"/>
      </geometry>
      <material name="spring">
        <color rgba="0.5 0.5 0.5 1.0"/>
      </material>
    </visual>
    <inertial>
      <mass value="0.0143865"/>
      <origin rpy="0 0 0" xyz="0.03091683 0.0 0.0"/>
      <inertia ixx="0.0000001" ixy="0.00000000" ixz="0.00000000" iyy="0.0000060" iyz="0.00000000" izz="0.0000060"/>
    </inertial>
  </link>
  <joint name="spring1_leg_l_joint" type="prismatic">
    <parent link="leg_l_spring1_link0"/>
    <child link="leg_l_spring1_link1"/>
    <origin rpy="0 3.141593 0" xyz="0.10911938 0.0 0.0"/>
    <axis xyz="1 0 0"/>
    <limit effort="1000.0" lower="-0.03" upper="0.06" velocity="10.0"/>
    <dynamics damping="0.01" friction="0.0"/>
  </joint>
  <link name="leg_l_spring1_link1">
    <collision>
      <origin rpy="0 0 0" xyz="0 0 0"/>
      <geometry>
        <mesh filename="package://ginko_description/meshes/stl/spring2.stl"/>
      </geometry>
    </collision>
    <visual>
      <origin rpy="0 0 0" xyz="0 0 0"/>
      <geometry>
        <mesh filename="package://ginko_description/meshes/stl/spring2.stl"/>
      </geometry>
      <material name="spring">
        <color rgba="0.5 0.5 0.5 1.0"/>
      </material>
    </visual>
    <inertial>
      <mass value="0.0143865"/>
      <origin rpy="0 0 0" xyz="0.03091683 0.0 0.0"/>
      <inertia ixx="0.0000001" ixy="0.00000000" ixz="0.00000000" iyy="0.0000060" iyz="0.00000000" izz="0.0000060"/>
    </inertial>
  </link>
  <joint name="close_leg_l_spring1_joint1" type="continuous">
    <parent link="leg_l_spring1_link1"/>
    <child link="dummy3_leg_l_link6"/>
    <origin rpy="0 -2.574025114 0" xyz="0 0 0"/>
    <axis xyz="0 -1 0"/>
    <limit effort="0.0" lower="-3.141593" upper="3.141593" velocity="10.0"/>
    <dynamics damping="0.01" friction="0.0"/>
  </joint>
  <link name="dummy3_leg_l_link6">
    <inertial>
      <mass value="0.00001"/>
      <origin rpy="0 0 0" xyz="-0.021 0.058 0.012"/>
      <inertia ixx="0.00000001" ixy="0.00000000" ixz="0.00000000" iyy="0.00000001" iyz="0.00000000" izz="0.00000001"/>
    </inertial>
  </link>
  <!-- toe -->
  <link name="leg_l_link6">
    <collision>
      <origin rpy="0 0 0" xyz="0 0 0"/>
      <geometry>
        <mesh filename="package://ginko_description/meshes/stl/link06_l_toe01.stl"/>
      </geometry>
    </collision>
    <visual>
      <origin rpy="0 0 0" xyz="0 0 0"/>
      <geometry>
        <mesh filename="package://ginko_description/meshes/obj/link06_l_toe01.obj"/>
      </geometry>
    </visual>
    <inertial>
      <mass value="0.08799204"/>
      <origin rpy="0 0 0" xyz="-0.04166125 0.02463880 -0.02586249"/>
      <inertia ixx="0.00002815" ixy="-0.00000041" ixz="0.00000980" iyy="0.00006846" iyz="-0.00000026" izz="0.00006529"/>
    </inertial>
  </link>
  <joint name="leg_l_joint7" type="revolute">
    <parent link="leg_l_link6"/>
    <child link="leg_l_link7"/>
    <origin rpy="0 0 0" xyz="-0.028 0.02475 -0.0391"/>
    <axis xyz="-1 0 0"/>
    <limit effort="1000.0" lower="-1.6" upper="1.6" velocity="10.0"/>
    <dynamics damping="0.0" friction="0.3"/>
  </joint>
  <link name="leg_l_link7">
    <collision>
      <origin rpy="0 0 0" xyz="0 0 0"/>
      <geometry>
        <mesh filename="package://ginko_description/meshes/stl/link07_l_toe02.stl"/>
      </geometry>
    </collision>
    <visual>
      <origin rpy="0 0 0" xyz="0 0 0"/>
      <geometry>
        <mesh filename="package://ginko_description/meshes/obj/link07_l_toe02.obj"/>
      </geometry>
    </visual>
    <inertial>
      <mass value="0.10920041"/>
      <origin rpy="0 0 0" xyz="0.02658756 0.00000053 -0.01782468"/>
      <inertia ixx="0.00003853" ixy="0.00000000" ixz="-0.00000479" iyy="0.00005192" iyz="0.00000000" izz="0.00003521"/>
    </inertial>
  </link>
  <joint name="leg_l_joint8" type="revolute">
    <parent link="leg_l_link7"/>
    <child link="leg_l_link8"/>
    <origin rpy="0 0 0" xyz="0.0342 0 -0.04"/>
    <axis xyz="0 0 1"/>
    <limit effort="1000.0" lower="-2.6" upper="2.6" velocity="10.0"/>
    <dynamics damping="0.0" friction="0.3"/>
  </joint>
  <link name="leg_l_link8">
    <collision>
      <origin rpy="0 0 0" xyz="0 0 -0.003"/>
      <geometry>
        <box size="0.128 0.08 0.006"/>
      </geometry>
    </collision>
    <visual>
      <origin rpy="0 0 0" xyz="0 0 0"/>
      <geometry>
        <mesh filename="package://ginko_description/meshes/obj/link08_l_toe03.obj"/>
      </geometry>
    </visual>
    <inertial>
      <mass value="0.05363111"/>
      <origin rpy="0 0 0" xyz="0.00000000 0.00000000 -0.00269342"/>
      <inertia ixx="0.00002877" ixy="0.00000000" ixz="0.00000000" iyy="0.00007083" iyz="-0.00000000" izz="0.00009934"/>
    </inertial>
  </link>
  <gazebo reference="leg_l_link0">
    <kp>1000000.0</kp>
    <kd>100.0</kd>
    <mu1>0.1</mu1>
    <maxVel>10.0</maxVel>
    <minDepth>0.0001</minDepth>
    <maxContacts>6</maxContacts>
    <selfCollide>false</selfCollide>
    <dampingFactor>0.00</dampingFactor>
  </gazebo>
  <gazebo reference="leg_l_link1">
    <kp>1000000.0</kp>
    <kd>100.0</kd>
    <mu1>0.1</mu1>
    <maxVel>10.0</maxVel>
    <minDepth>0.0001</minDepth>
    <maxContacts>6</maxContacts>
    <selfCollide>false</selfCollide>
    <dampingFactor>0.00</dampingFactor>
  </gazebo>
  <gazebo reference="leg_l_link3">
    <kp>1000000.0</kp>
    <kd>100.0</kd>
    <mu1>0.1</mu1>
    <maxVel>10.0</maxVel>
    <minDepth>0.0001</minDepth>
    <maxContacts>6</maxContacts>
    <selfCollide>false</selfCollide>
    <dampingFactor>0.00</dampingFactor>
  </gazebo>
  <gazebo reference="leg_l_link4">
    <kp>1000000.0</kp>
    <kd>100.0</kd>
    <mu1>0.1</mu1>
    <maxVel>10.0</maxVel>
    <minDepth>0.0001</minDepth>
    <maxContacts>6</maxContacts>
    <selfCollide>false</selfCollide>
    <dampingFactor>0.00</dampingFactor>
  </gazebo>
  <gazebo reference="leg_l_link6">
    <kp>1000000.0</kp>
    <kd>100.0</kd>
    <mu1>0.1</mu1>
    <maxVel>10.0</maxVel>
    <minDepth>0.0001</minDepth>
    <maxContacts>6</maxContacts>
    <selfCollide>false</selfCollide>
    <dampingFactor>0.00</dampingFactor>
  </gazebo>
  <gazebo reference="leg_l_link7">
    <kp>1000000.0</kp>
    <kd>100.0</kd>
    <mu1>0.1</mu1>
    <maxVel>10.0</maxVel>
    <minDepth>0.0001</minDepth>
    <maxContacts>6</maxContacts>
    <selfCollide>false</selfCollide>
    <dampingFactor>0.00</dampingFactor>
  </gazebo>
  <!-- <xacro:default_link_collision link_name="leg_l_link8" friction="1.0"/> -->
  <gazebo reference="leg_l_link8">
    <kp>2000000.0</kp>
    <kd>200.0</kd>
    <mu1>10.0</mu1>
    <maxVel>1.0</maxVel>
    <minDepth>0.0001</minDepth>
    <maxContacts>20</maxContacts>
    <selfCollide>true</selfCollide>
    <dampingFactor>0.0</dampingFactor>
  </gazebo>
  <transmission name="leg_l_joint0_trans">
    <type>transmission_interface/SimpleTransmission</type>
    <joint name="leg_l_joint0">
      <hardwareInterface>PositionDutyPidMotorInterface</hardwareInterface>
    </joint>
    <actuator name="leg_l_joint0_motor">
      <hardwareInterface>PositionDutyPidMotorInterface</hardwareInterface>
      <mechanicalReduction>1</mechanicalReduction>
    </actuator>
  </transmission>
  <transmission name="leg_l_joint1_trans">
    <type>transmission_interface/SimpleTransmission</type>
    <joint name="leg_l_joint1">
      <hardwareInterface>PositionDutyPidMotorInterface</hardwareInterface>
    </joint>
    <actuator name="leg_l_joint1_motor">
      <hardwareInterface>PositionDutyPidMotorInterface</hardwareInterface>
      <mechanicalReduction>1</mechanicalReduction>
    </actuator>
  </transmission>
  <transmission name="leg_l_joint3_trans">
    <type>transmission_interface/SimpleTransmission</type>
    <joint name="leg_l_joint3">
      <hardwareInterface>PositionDutyPidMotorInterface</hardwareInterface>
    </joint>
    <actuator name="leg_l_joint3_motor">
      <hardwareInterface>PositionDutyPidMotorInterface</hardwareInterface>
      <mechanicalReduction>1</mechanicalReduction>
    </actuator>
  </transmission>
  <transmission name="leg_l_joint4_trans">
    <type>transmission_interface/SimpleTransmission</type>
    <joint name="leg_l_joint4">
      <hardwareInterface>PositionDutyPidMotorInterface</hardwareInterface>
    </joint>
    <actuator name="leg_l_joint4_motor">
      <hardwareInterface>PositionDutyPidMotorInterface</hardwareInterface>
      <mechanicalReduction>1</mechanicalReduction>
    </actuator>
  </transmission>
  <transmission name="leg_l_joint6_trans">
    <type>transmission_interface/SimpleTransmission</type>
    <joint name="leg_l_joint6">
      <hardwareInterface>PositionDutyPidMotorInterface</hardwareInterface>
    </joint>
    <actuator name="leg_l_joint6_motor">
      <hardwareInterface>PositionDutyPidMotorInterface</hardwareInterface>
      <mechanicalReduction>1</mechanicalReduction>
    </actuator>
  </transmission>
  <transmission name="leg_l_joint7_trans">
    <type>transmission_interface/SimpleTransmission</type>
    <joint name="leg_l_joint7">
      <hardwareInterface>PositionDutyPidMotorInterface</hardwareInterface>
    </joint>
    <actuator name="leg_l_joint7_motor">
      <hardwareInterface>PositionDutyPidMotorInterface</hardwareInterface>
      <mechanicalReduction>1</mechanicalReduction>
    </actuator>
  </transmission>
  <transmission name="leg_l_joint8_trans">
    <type>transmission_interface/SimpleTransmission</type>
    <joint name="leg_l_joint8">
      <hardwareInterface>PositionDutyPidMotorInterface</hardwareInterface>
    </joint>
    <actuator name="leg_l_joint8_motor">
      <hardwareInterface>PositionDutyPidMotorInterface</hardwareInterface>
      <mechanicalReduction>1</mechanicalReduction>
    </actuator>
  </transmission>
  <!-- shoulder pitch. -->
  <joint name="arm_r_joint0" type="revolute">
    <parent link="body_link0"/>
    <child link="arm_r_link0"/>
    <origin rpy="0 0.3927 0" xyz="0 -0.10683 0.05115"/>
    <axis xyz="0 1 0"/>
    <limit effort="1000.0" lower="-2.6" upper="2.6" velocity="10.0"/>
    <dynamics damping="0.1" friction="0.1"/>
  </joint>
  <link name="arm_r_link0">
    <collision>
      <origin rpy="0 0 0" xyz="0 0 0"/>
      <geometry>
        <mesh filename="package://ginko_description/meshes/stl/link09_r_arm01.stl"/>
      </geometry>
    </collision>
    <visual>
      <origin rpy="0 0 0" xyz="0 0 0"/>
      <geometry>
        <mesh filename="package://ginko_description/meshes/obj/link09_r_arm01.obj"/>
      </geometry>
    </visual>
    <inertial>
      <mass value="0.01356014"/>
      <origin rpy="0 0 0" xyz="-0.01125790 -0.00529265 0.00000000"/>
      <inertia ixx="0.00000235" ixy="-0.00000004" ixz="0.00000000" iyy="0.00001670" iyz="0.00000000" izz="0.00001606"/>
    </inertial>
  </link>
  <!-- shoulder roll -->
  <joint name="arm_r_joint1" type="revolute">
    <parent link="arm_r_link0"/>
    <child link="arm_r_link1"/>
    <origin rpy="-1.1781 0 0" xyz="0.035 -0.0246 0"/>
    <axis xyz="1 0 0"/>
    <limit effort="1000.0" lower="-1.6" upper="1.18" velocity="10.0"/>
    <dynamics damping="0.1" friction="0.1"/>
  </joint>
  <link name="arm_r_link1">
    <collision>
      <origin rpy="0 0 0" xyz="0 0 0"/>
      <geometry>
        <mesh filename="package://ginko_description/meshes/stl/link10_r_arm02.stl"/>
      </geometry>
    </collision>
    <visual>
      <origin rpy="0 0 0" xyz="0 0 0"/>
      <geometry>
        <mesh filename="package://ginko_description/meshes/obj/link10_r_arm02.obj"/>
      </geometry>
    </visual>
    <inertial>
      <mass value="0.33139947"/>
      <origin rpy="0 0 0" xyz="-0.02612786 -0.02650564 -0.06333369"/>
      <inertia ixx="0.00115128" ixy="-0.00015366" ixz="-0.00031848" iyy="0.00113572" iyz="0.00037104" izz="0.00064743"/>
    </inertial>
  </link>
  <joint name="arm_r_joint1_rev" type="revolute">
    <parent link="arm_r_link0"/>
    <child link="dummy0_arm_r_link1"/>
    <origin rpy="-1.1781 0 0" xyz="-0.0562 -0.0246 0"/>
    <axis xyz="-1 0 0"/>
    <limit effort="1000.0" lower="-1.18" upper="1.6" velocity="10.0"/>
    <dynamics damping="0.0" friction="0.0"/>
  </joint>
  <link name="dummy0_arm_r_link1">
    <inertial>
      <mass value="0.00001"/>
      <origin rpy="0 0 0" xyz="-0.0912 0 0"/>
      <inertia ixx="0.00000001" ixy="0.00000000" ixz="0.00000000" iyy="0.00000001" iyz="0.00000000" izz="0.00000001"/>
    </inertial>
  </link>
  <!-- scissors -->
  <joint name="arm_r_joint2" type="revolute">
    <parent link="arm_r_link1"/>
    <child link="arm_r_link2"/>
    <origin rpy="0 0.7854 0" xyz="0.0092 -0.0547 -0.11295"/>
    <axis xyz="0 -1 0"/>
    <limit effort="1000.0" lower="-2.36" upper="2.36" velocity="10.0"/>
    <dynamics damping="0.1" friction="0.1"/>
  </joint>
  <link name="arm_r_link2">
    <collision>
      <origin rpy="0 0 0" xyz="0 0 0"/>
      <geometry>
        <mesh filename="package://ginko_description/meshes/stl/link11_r_scissor01.stl"/>
      </geometry>
    </collision>
    <visual>
      <origin rpy="0 0 0" xyz="0 0 0"/>
      <geometry>
        <mesh filename="package://ginko_description/meshes/obj/link11_r_scissor01.obj"/>
      </geometry>
    </visual>
    <inertial>
      <mass value="0.03287850"/>
      <origin rpy="0 0 0" xyz="0.08234859 0.030246866 0.00514112"/>
      <inertia ixx="0.00002277" ixy="0.00000014" ixz="-0.00000058" iyy="0.00008197" iyz="0.00000001" izz="0.00010105"/>
    </inertial>
  </link>
  <joint name="arm_r_joint3" type="revolute">
    <parent link="arm_r_link1"/>
    <child link="arm_r_link3"/>
    <origin rpy="0 0.7854 0" xyz="0.0092 0.0018 -0.11295"/>
    <axis xyz="0 -1 0"/>
    <limit effort="1000.0" lower="-2.36" upper="2.36" velocity="10.0"/>
    <dynamics damping="0.1" friction="0.1"/>
  </joint>
  <link name="arm_r_link3">
    <collision>
      <origin rpy="0 0 0" xyz="0 0 0"/>
      <geometry>
        <mesh filename="package://ginko_description/meshes/stl/link12_r_scissor02.stl"/>
      </geometry>
    </collision>
    <visual>
      <origin rpy="0 0 0" xyz="0 0 0"/>
      <geometry>
        <mesh filename="package://ginko_description/meshes/obj/link12_r_scissor02.obj"/>
      </geometry>
    </visual>
    <inertial>
      <mass value="0.02936110"/>
      <origin rpy="0 0 0" xyz="0.07807033 -0.02515230 -0.00665437"/>
      <inertia ixx="0.00001452" ixy="-0.00000023" ixz="-0.00000245" iyy="0.00006407" iyz="0.00000002" izz="0.00008024"/>
    </inertial>
  </link>
  <joint name="arm_r_urg_joint" type="revolute">
    <parent link="arm_r_link1"/>
    <child link="arm_r_urg_link"/>
    <origin rpy="0 1.57 1.57" xyz="-0.0456 0.01715 -0.06795"/>
    <axis xyz="0 0 1"/>
    <limit effort="0.0" lower="0.0" upper="0.0" velocity="0.0"/>
    <dynamics damping="0.1" friction="0.1"/>
  </joint>
  <link name="arm_r_urg_link">
    <collision>
      <origin rpy="0 0 0" xyz="0 0 0"/>
      <geometry>
        <mesh filename="package://ginko_description/meshes/stl/urg.stl"/>
      </geometry>
    </collision>
    <visual>
      <origin rpy="0 0 0" xyz="0 0 0"/>
      <geometry>
        <mesh filename="package://ginko_description/meshes/obj/urg.obj"/>
      </geometry>
    </visual>
    <inertial>
      <mass value="0.16705492"/>
      <origin rpy="0 0 0" xyz="-0.00014579 0.00000831 -0.02360505"/>
      <inertia ixx="0.00008801" ixy="0.00000000" ixz="-0.00000049" iyy="0.00008854" iyz="-0.00000004" izz="0.00006019"/>
    </inertial>
  </link>
  <gazebo reference="arm_r_link0">
    <kp>1000000.0</kp>
    <kd>100.0</kd>
    <mu1>0.1</mu1>
    <maxVel>10.0</maxVel>
    <minDepth>0.0001</minDepth>
    <maxContacts>6</maxContacts>
    <selfCollide>false</selfCollide>
    <dampingFactor>0.00</dampingFactor>
  </gazebo>
  <gazebo reference="arm_r_link1">
    <kp>1000000.0</kp>
    <kd>100.0</kd>
    <mu1>0.1</mu1>
    <maxVel>10.0</maxVel>
    <minDepth>0.0001</minDepth>
    <maxContacts>6</maxContacts>
    <selfCollide>false</selfCollide>
    <dampingFactor>0.00</dampingFactor>
  </gazebo>
  <gazebo reference="arm_r_link2">
    <kp>1000000.0</kp>
    <kd>100.0</kd>
    <mu1>0.1</mu1>
    <maxVel>10.0</maxVel>
    <minDepth>0.0001</minDepth>
    <maxContacts>6</maxContacts>
    <selfCollide>false</selfCollide>
    <dampingFactor>0.00</dampingFactor>
  </gazebo>
  <gazebo reference="arm_r_link3">
    <kp>1000000.0</kp>
    <kd>100.0</kd>
    <mu1>0.1</mu1>
    <maxVel>10.0</maxVel>
    <minDepth>0.0001</minDepth>
    <maxContacts>6</maxContacts>
    <selfCollide>false</selfCollide>
    <dampingFactor>0.00</dampingFactor>
  </gazebo>
  <transmission name="arm_r_joint0_trans">
    <type>transmission_interface/SimpleTransmission</type>
    <joint name="arm_r_joint0">
      <hardwareInterface>PositionDutyPidMotorInterface</hardwareInterface>
    </joint>
    <actuator name="arm_r_joint0_motor">
      <hardwareInterface>PositionDutyPidMotorInterface</hardwareInterface>
      <mechanicalReduction>1</mechanicalReduction>
    </actuator>
  </transmission>
  <transmission name="arm_r_joint1_trans">
    <type>transmission_interface/SimpleTransmission</type>
    <joint name="arm_r_joint1">
      <hardwareInterface>PositionDutyPidMotorInterface</hardwareInterface>
    </joint>
    <actuator name="arm_r_joint1_motor">
      <hardwareInterface>PositionDutyPidMotorInterface</hardwareInterface>
      <mechanicalReduction>1</mechanicalReduction>
    </actuator>
  </transmission>
  <transmission name="arm_r_joint1_rev_trans">
    <type>transmission_interface/SimpleTransmission</type>
    <joint name="arm_r_joint1_rev">
      <hardwareInterface>PositionDutyPidMotorInterface</hardwareInterface>
    </joint>
    <actuator name="arm_r_joint1_rev_motor">
      <hardwareInterface>PositionDutyPidMotorInterface</hardwareInterface>
      <mechanicalReduction>1</mechanicalReduction>
    </actuator>
  </transmission>
  <transmission name="arm_r_joint2_trans">
    <type>transmission_interface/SimpleTransmission</type>
    <joint name="arm_r_joint2">
      <hardwareInterface>PositionDutyPidMotorInterface</hardwareInterface>
    </joint>
    <actuator name="arm_r_joint2_motor">
      <hardwareInterface>PositionDutyPidMotorInterface</hardwareInterface>
      <mechanicalReduction>1</mechanicalReduction>
    </actuator>
  </transmission>
  <transmission name="arm_r_joint3_trans">
    <type>transmission_interface/SimpleTransmission</type>
    <joint name="arm_r_joint3">
      <hardwareInterface>PositionDutyPidMotorInterface</hardwareInterface>
    </joint>
    <actuator name="arm_r_joint3_motor">
      <hardwareInterface>PositionDutyPidMotorInterface</hardwareInterface>
      <mechanicalReduction>1</mechanicalReduction>
    </actuator>
  </transmission>
  <!-- shoulder pitch. -->
  <joint name="arm_l_joint0" type="revolute">
    <parent link="body_link0"/>
    <child link="arm_l_link0"/>
    <origin rpy="0 0.3927 0" xyz="0 0.10683 0.05115"/>
    <axis xyz="0 -1 0"/>
    <limit effort="1000.0" lower="-2.6" upper="2.6" velocity="10.0"/>
    <dynamics damping="0.1" friction="0.1"/>
  </joint>
  <link name="arm_l_link0">
    <collision>
      <origin rpy="0 0 0" xyz="0 0 0"/>
      <geometry>
        <mesh filename="package://ginko_description/meshes/stl/link09_l_arm01.stl"/>
      </geometry>
    </collision>
    <visual>
      <origin rpy="0 0 0" xyz="0 0 0"/>
      <geometry>
        <mesh filename="package://ginko_description/meshes/obj/link09_l_arm01.obj"/>
      </geometry>
    </visual>
    <inertial>
      <mass value="0.01356014"/>
      <origin rpy="0 0 0" xyz="-0.01125790 0.00529265 0.00000000"/>
      <inertia ixx="0.00000235" ixy="0.00000004" ixz="0.00000000" iyy="0.00001670" iyz="0.00000000" izz="0.00001606"/>
    </inertial>
  </link>
  <!-- shoulder roll -->
  <joint name="arm_l_joint1" type="revolute">
    <parent link="arm_l_link0"/>
    <child link="arm_l_link1"/>
    <origin rpy="1.1781 0 0" xyz="0.035 0.0246 0"/>
    <axis xyz="1 0 0"/>
    <limit effort="1000.0" lower="-1.18" upper="1.6" velocity="10.0"/>
    <dynamics damping="0.1" friction="0.1"/>
  </joint>
  <link name="arm_l_link1">
    <collision>
      <origin rpy="0 0 0" xyz="0 0 0"/>
      <geometry>
        <mesh filename="package://ginko_description/meshes/stl/link10_l_arm02.stl"/>
      </geometry>
    </collision>
    <visual>
      <origin rpy="0 0 0" xyz="0 0 0"/>
      <geometry>
        <mesh filename="package://ginko_description/meshes/obj/link10_l_arm02.obj"/>
      </geometry>
    </visual>
    <inertial>
      <mass value="0.33139947"/>
      <origin rpy="0 0 0" xyz="-0.02612786 0.02650564 -0.06333369"/>
      <inertia ixx="0.00115128" ixy="0.00015366" ixz="-0.00031848" iyy="0.00113572" iyz="-0.00037104" izz="0.00064743"/>
    </inertial>
  </link>
  <joint name="arm_l_joint1_rev" type="revolute">
    <parent link="arm_l_link0"/>
    <child link="dummy0_arm_l_link1"/>
    <origin rpy="1.1781 0 0" xyz="-0.0562 0.0246 0"/>
    <axis xyz="-1 0 0"/>
    <limit effort="1000.0" lower="-1.6" upper="1.18" velocity="10.0"/>
    <dynamics damping="0.0" friction="0.0"/>
  </joint>
  <link name="dummy0_arm_l_link1">
    <inertial>
      <mass value="0.00001"/>
      <origin rpy="0 0 0" xyz="-0.0912 0 0"/>
      <inertia ixx="0.00000001" ixy="0.00000000" ixz="0.00000000" iyy="0.00000001" iyz="0.00000000" izz="0.00000001"/>
    </inertial>
  </link>
  <!-- scissors -->
  <joint name="arm_l_joint2" type="revolute">
    <parent link="arm_l_link1"/>
    <child link="arm_l_link2"/>
    <origin rpy="0 0.7854 0" xyz="0.0092 0.0547 -0.11295"/>
    <axis xyz="0 1 0"/>
    <limit effort="1000.0" lower="-2.36" upper="2.36" velocity="10.0"/>
    <dynamics damping="0.1" friction="0.1"/>
  </joint>
  <link name="arm_l_link2">
    <collision>
      <origin rpy="0 0 0" xyz="0 0 0"/>
      <geometry>
        <mesh filename="package://ginko_description/meshes/stl/link11_l_scissor01.stl"/>
      </geometry>
    </collision>
    <visual>
      <origin rpy="0 0 0" xyz="0 0 0"/>
      <geometry>
        <mesh filename="package://ginko_description/meshes/obj/link11_l_scissor01.obj"/>
      </geometry>
    </visual>
    <inertial>
      <mass value="0.03287850"/>
      <origin rpy="0 0 0" xyz="0.08234859 -0.030246866 0.00514112"/>
      <inertia ixx="0.00002277" ixy="-0.00000014" ixz="-0.00000058" iyy="0.00008197" iyz="-0.00000001" izz="0.00010105"/>
    </inertial>
  </link>
  <joint name="arm_l_joint3" type="revolute">
    <parent link="arm_l_link1"/>
    <child link="arm_l_link3"/>
    <origin rpy="0 0.7854 0" xyz="0.0092 -0.0018 -0.11295"/>
    <axis xyz="0 1 0"/>
    <limit effort="1000.0" lower="-2.36" upper="2.36" velocity="10.0"/>
    <dynamics damping="0.1" friction="0.1"/>
  </joint>
  <link name="arm_l_link3">
    <collision>
      <origin rpy="0 0 0" xyz="0 0 0"/>
      <geometry>
        <mesh filename="package://ginko_description/meshes/stl/link12_l_scissor02.stl"/>
      </geometry>
    </collision>
    <visual>
      <origin rpy="0 0 0" xyz="0 0 0"/>
      <geometry>
        <mesh filename="package://ginko_description/meshes/obj/link12_l_scissor02.obj"/>
      </geometry>
    </visual>
    <inertial>
      <mass value="0.02936110"/>
      <origin rpy="0 0 0" xyz="0.07807033 0.02515230 -0.00665437"/>
      <inertia ixx="0.00001452" ixy="0.00000023" ixz="-0.00000245" iyy="0.00006407" iyz="-0.00000002" izz="0.00008024"/>
    </inertial>
  </link>
  <joint name="arm_l_urg_joint" type="revolute">
    <parent link="arm_l_link1"/>
    <child link="arm_l_urg_link"/>
    <origin rpy="0 1.57 -1.57" xyz="-0.0456 -0.01715 -0.06795"/>
    <axis xyz="0 0 1"/>
    <limit effort="0.0" lower="0.0" upper="0.0" velocity="0.0"/>
    <dynamics damping="0.1" friction="0.1"/>
  </joint>
  <link name="arm_l_urg_link">
    <collision>
      <origin rpy="0 0 0" xyz="0 0 0"/>
      <geometry>
        <mesh filename="package://ginko_description/meshes/stl/urg.stl"/>
      </geometry>
    </collision>
    <visual>
      <origin rpy="0 0 0" xyz="0 0 0"/>
      <geometry>
        <mesh filename="package://ginko_description/meshes/obj/urg.obj"/>
      </geometry>
    </visual>
    <inertial>
      <mass value="0.16705492"/>
      <origin rpy="0 0 0" xyz="-0.00014579 0.00000831 -0.02360505"/>
      <inertia ixx="0.00008801" ixy="0.00000000" ixz="-0.00000049" iyy="0.00008854" iyz="-0.00000004" izz="0.00006019"/>
    </inertial>
  </link>
  <gazebo reference="arm_l_link0">
    <kp>1000000.0</kp>
    <kd>100.0</kd>
    <mu1>0.1</mu1>
    <maxVel>10.0</maxVel>
    <minDepth>0.0001</minDepth>
    <maxContacts>6</maxContacts>
    <selfCollide>false</selfCollide>
    <dampingFactor>0.00</dampingFactor>
  </gazebo>
  <gazebo reference="arm_l_link1">
    <kp>1000000.0</kp>
    <kd>100.0</kd>
    <mu1>0.1</mu1>
    <maxVel>10.0</maxVel>
    <minDepth>0.0001</minDepth>
    <maxContacts>6</maxContacts>
    <selfCollide>false</selfCollide>
    <dampingFactor>0.00</dampingFactor>
  </gazebo>
  <gazebo reference="arm_l_link2">
    <kp>1000000.0</kp>
    <kd>100.0</kd>
    <mu1>0.1</mu1>
    <maxVel>10.0</maxVel>
    <minDepth>0.0001</minDepth>
    <maxContacts>6</maxContacts>
    <selfCollide>false</selfCollide>
    <dampingFactor>0.00</dampingFactor>
  </gazebo>
  <gazebo reference="arm_l_link3">
    <kp>1000000.0</kp>
    <kd>100.0</kd>
    <mu1>0.1</mu1>
    <maxVel>10.0</maxVel>
    <minDepth>0.0001</minDepth>
    <maxContacts>6</maxContacts>
    <selfCollide>false</selfCollide>
    <dampingFactor>0.00</dampingFactor>
  </gazebo>
  <transmission name="arm_l_joint0_trans">
    <type>transmission_interface/SimpleTransmission</type>
    <joint name="arm_l_joint0">
      <hardwareInterface>PositionDutyPidMotorInterface</hardwareInterface>
    </joint>
    <actuator name="arm_l_joint0_motor">
      <hardwareInterface>PositionDutyPidMotorInterface</hardwareInterface>
      <mechanicalReduction>1</mechanicalReduction>
    </actuator>
  </transmission>
  <transmission name="arm_l_joint1_trans">
    <type>transmission_interface/SimpleTransmission</type>
    <joint name="arm_l_joint1">
      <hardwareInterface>PositionDutyPidMotorInterface</hardwareInterface>
    </joint>
    <actuator name="arm_l_joint1_motor">
      <hardwareInterface>PositionDutyPidMotorInterface</hardwareInterface>
      <mechanicalReduction>1</mechanicalReduction>
    </actuator>
  </transmission>
  <transmission name="arm_l_joint1_rev_trans">
    <type>transmission_interface/SimpleTransmission</type>
    <joint name="arm_l_joint1_rev">
      <hardwareInterface>PositionDutyPidMotorInterface</hardwareInterface>
    </joint>
    <actuator name="arm_l_joint1_rev_motor">
      <hardwareInterface>PositionDutyPidMotorInterface</hardwareInterface>
      <mechanicalReduction>1</mechanicalReduction>
    </actuator>
  </transmission>
  <transmission name="arm_l_joint2_trans">
    <type>transmission_interface/SimpleTransmission</type>
    <joint name="arm_l_joint2">
      <hardwareInterface>PositionDutyPidMotorInterface</hardwareInterface>
    </joint>
    <actuator name="arm_l_joint2_motor">
      <hardwareInterface>PositionDutyPidMotorInterface</hardwareInterface>
      <mechanicalReduction>1</mechanicalReduction>
    </actuator>
  </transmission>
  <transmission name="arm_l_joint3_trans">
    <type>transmission_interface/SimpleTransmission</type>
    <joint name="arm_l_joint3">
      <hardwareInterface>PositionDutyPidMotorInterface</hardwareInterface>
    </joint>
    <actuator name="arm_l_joint3_motor">
      <hardwareInterface>PositionDutyPidMotorInterface</hardwareInterface>
      <mechanicalReduction>1</mechanicalReduction>
    </actuator>
  </transmission>
  <gazebo>
    <plugin filename="libgazebo_ros_control.so" name="gazebo_ros_control">
      <robotNamespace>/ginko</robotNamespace>
      <robotSimType>gazebo_ros_control/GinkoRobotHWSim</robotSimType>
      <legacyModeNS>true</legacyModeNS>
    </plugin>
  </gazebo>
  <link name="body_imu_attached_link">
    <inertial>
      <mass value="0.0005"/>
      <origin rpy="0 0 0" xyz="0 0 0"/>
      <inertia ixx="0.00000001" ixy="0.00000000" ixz="0.00000000" iyy="0.00000001" iyz="0.00000000" izz="0.00000001"/>
    </inertial>
  </link>
  <joint name="body_imu_attached_joint" type="revolute">
    <parent link="body_link1"/>
    <child link="body_imu_attached_link"/>
    <origin rpy="0 1.5708 0" xyz="-0.09 0 -0.0379"/>
    <axis xyz="0 0 1"/>
    <limit effort="0.0" lower="0.0" upper="0.0" velocity="0.0"/>
    <dynamics damping="0.0" friction="0.0"/>
  </joint>
  <link name="body_imu_base_link">
    <inertial>
      <mass value="0.0005"/>
      <origin rpy="0 0 0" xyz="0 0 0"/>
      <inertia ixx="0.00000001" ixy="0.00000000" ixz="0.00000000" iyy="0.00000001" iyz="0.00000000" izz="0.00000001"/>
    </inertial>
  </link>
  <joint name="imu_joint" type="revolute">
    <parent link="body_link1"/>
    <child link="body_imu_base_link"/>
    <origin rpy="0 0 0" xyz="-0.09 0 -0.0379"/>
    <axis xyz="0 0 1"/>
    <limit effort="0.0" lower="0.0" upper="0.0" velocity="0.0"/>
    <dynamics damping="0.0" friction="0.0"/>
  </joint>
  <gazebo>
    <plugin filename="libgazebo_ros_imu.so" name="imu_plugin">
      <alwaysOn>true</alwaysOn>
      <bodyName>body_imu_attached_link</bodyName>
      <topicName>/sensor/imu/raw/gazebo</topicName>
      <serviceName>gazebo_imu_service</serviceName>
      <gaussianNoise>0.0</gaussianNoise>
      <updateRate>400.0</updateRate>
    </plugin>
  </gazebo>
  <gazebo reference="arm_r_urg_link">
    <sensor name="urg_right" type="gpu_ray">
      <update_rate>10.0</update_rate>
      <pose>0 0 0 0 0 0</pose>
      <!-- <visualize>true</visualize> -->
      <ray>
        <scan>
          <horizontal>
            <samples>666</samples>
            <resolution>1</resolution>
            <min_angle>-2.094</min_angle>
            <max_angle>2.094</max_angle>
          </horizontal>
        </scan>
        <range>
          <min>0.02</min>
          <max>5.6</max>
          <resolution>0.001</resolution>
        </range>
        <noise>
          <type>gaussian</type>
          <mean>0.0</mean>
          <stddev>0.01</stddev>
        </noise>
      </ray>
      <plugin filename="libgazebo_ros_gpu_laser.so" name="urg_right_gazebo_plugin">
        <frameName>arm_r_urg_link</frameName>
        <topicName>/sensor/urg/right/scan_raw</topicName>
      </plugin>
    </sensor>
  </gazebo>
  <gazebo reference="arm_l_urg_link">
    <sensor name="urg_left" type="gpu_ray">
      <update_rate>10.0</update_rate>
      <pose>0 0 0 0 0 0</pose>
      <!-- <visualize>true</visualize> -->
      <ray>
        <scan>
          <horizontal>
            <samples>666</samples>
            <resolution>1</resolution>
            <min_angle>-2.094</min_angle>
            <max_angle>2.094</max_angle>
          </horizontal>
        </scan>
        <range>
          <min>0.02</min>
          <max>5.6</max>
          <resolution>0.001</resolution>
        </range>
        <noise>
          <type>gaussian</type>
          <mean>0.0</mean>
          <stddev>0.01</stddev>
        </noise>
      </ray>
      <plugin filename="libgazebo_ros_gpu_laser.so" name="urg_left_gazebo_plugin">
        <frameName>arm_l_urg_link</frameName>
        <topicName>/sensor/urg/left/scan_raw</topicName>
      </plugin>
    </sensor>
  </gazebo>
</robot>
